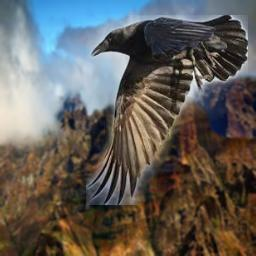Crow: (86, 15, 248, 205)
